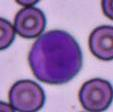M: (28, 29, 82, 84)
